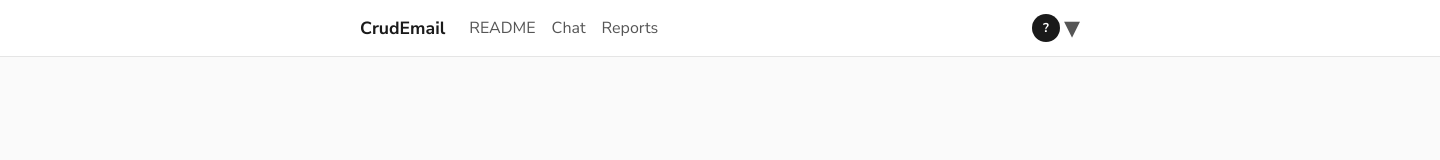
Test case: AppNav › shows Sign In link when not authenticated
Open menu
Click the button with class "avatar-trigger" at (1056,28), box [1032,12,1080,44]
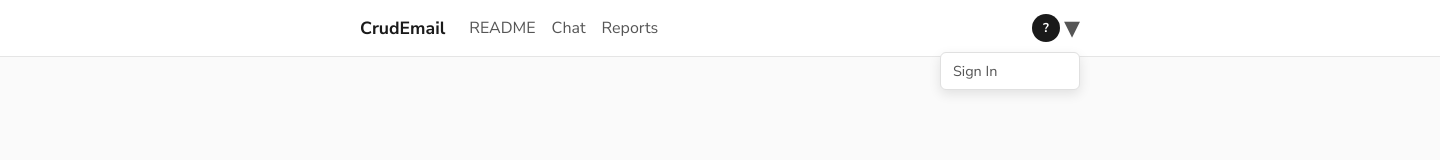
Result: the element with class "avatar-menu" reads "Sign In" at [941,53,1079,89]
